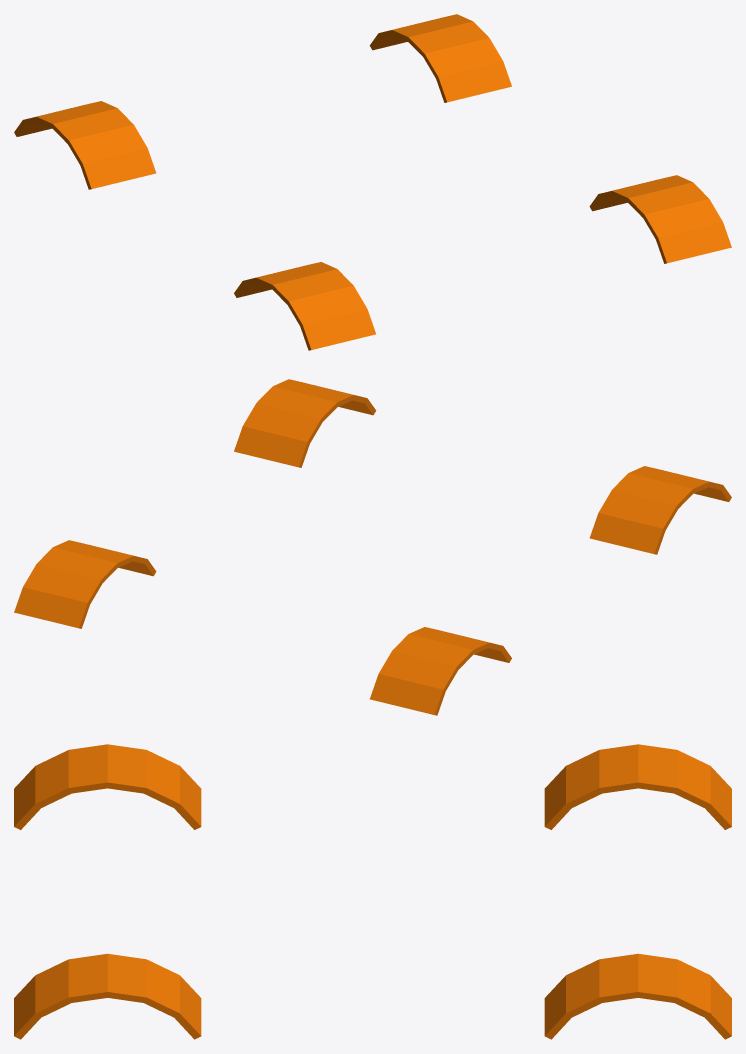
Rendered from wheelGuards2.glb.
3 renders of one model, top to bottom at view 1: azimuth 30°, elevation 25°; view 2: azimuth 150°, elevation 25°; view 3: azimuth 270°, elevation 25°, orthographic. The views are drawn at different scales.
Visible parts, largest first — view 1: wheelGuards2; view 2: wheelGuards2; view 3: wheelGuards2.
Part boxes in pixels (x1,y1,x2,y2): wheelGuards2: (14, 14, 731, 350); wheelGuards2: (14, 379, 731, 715); wheelGuards2: (14, 744, 731, 1039).
Bounding box in the file's own units: 2.84 × 0.255 × 3.48.
Materials: 1 (1 with a texture image).
